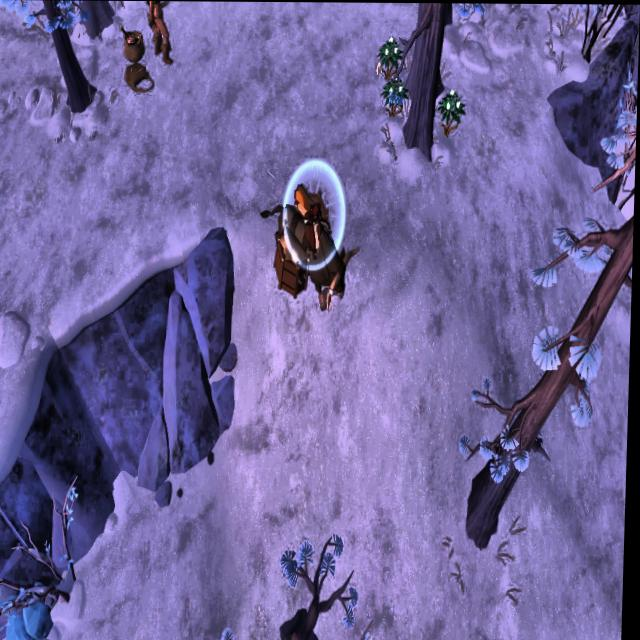enemy_factionKeeper: (147, 1, 180, 69)
fiber_t3: (375, 29, 407, 80), (438, 84, 467, 136), (384, 70, 412, 114)
